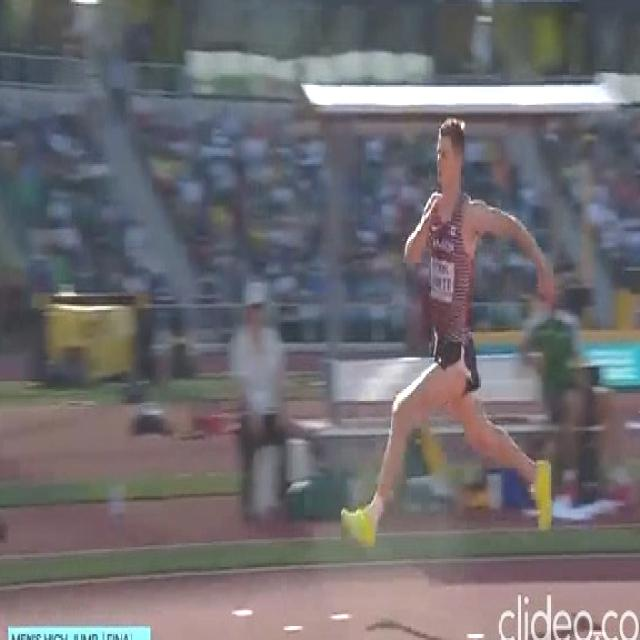run: (342, 117, 553, 534)
